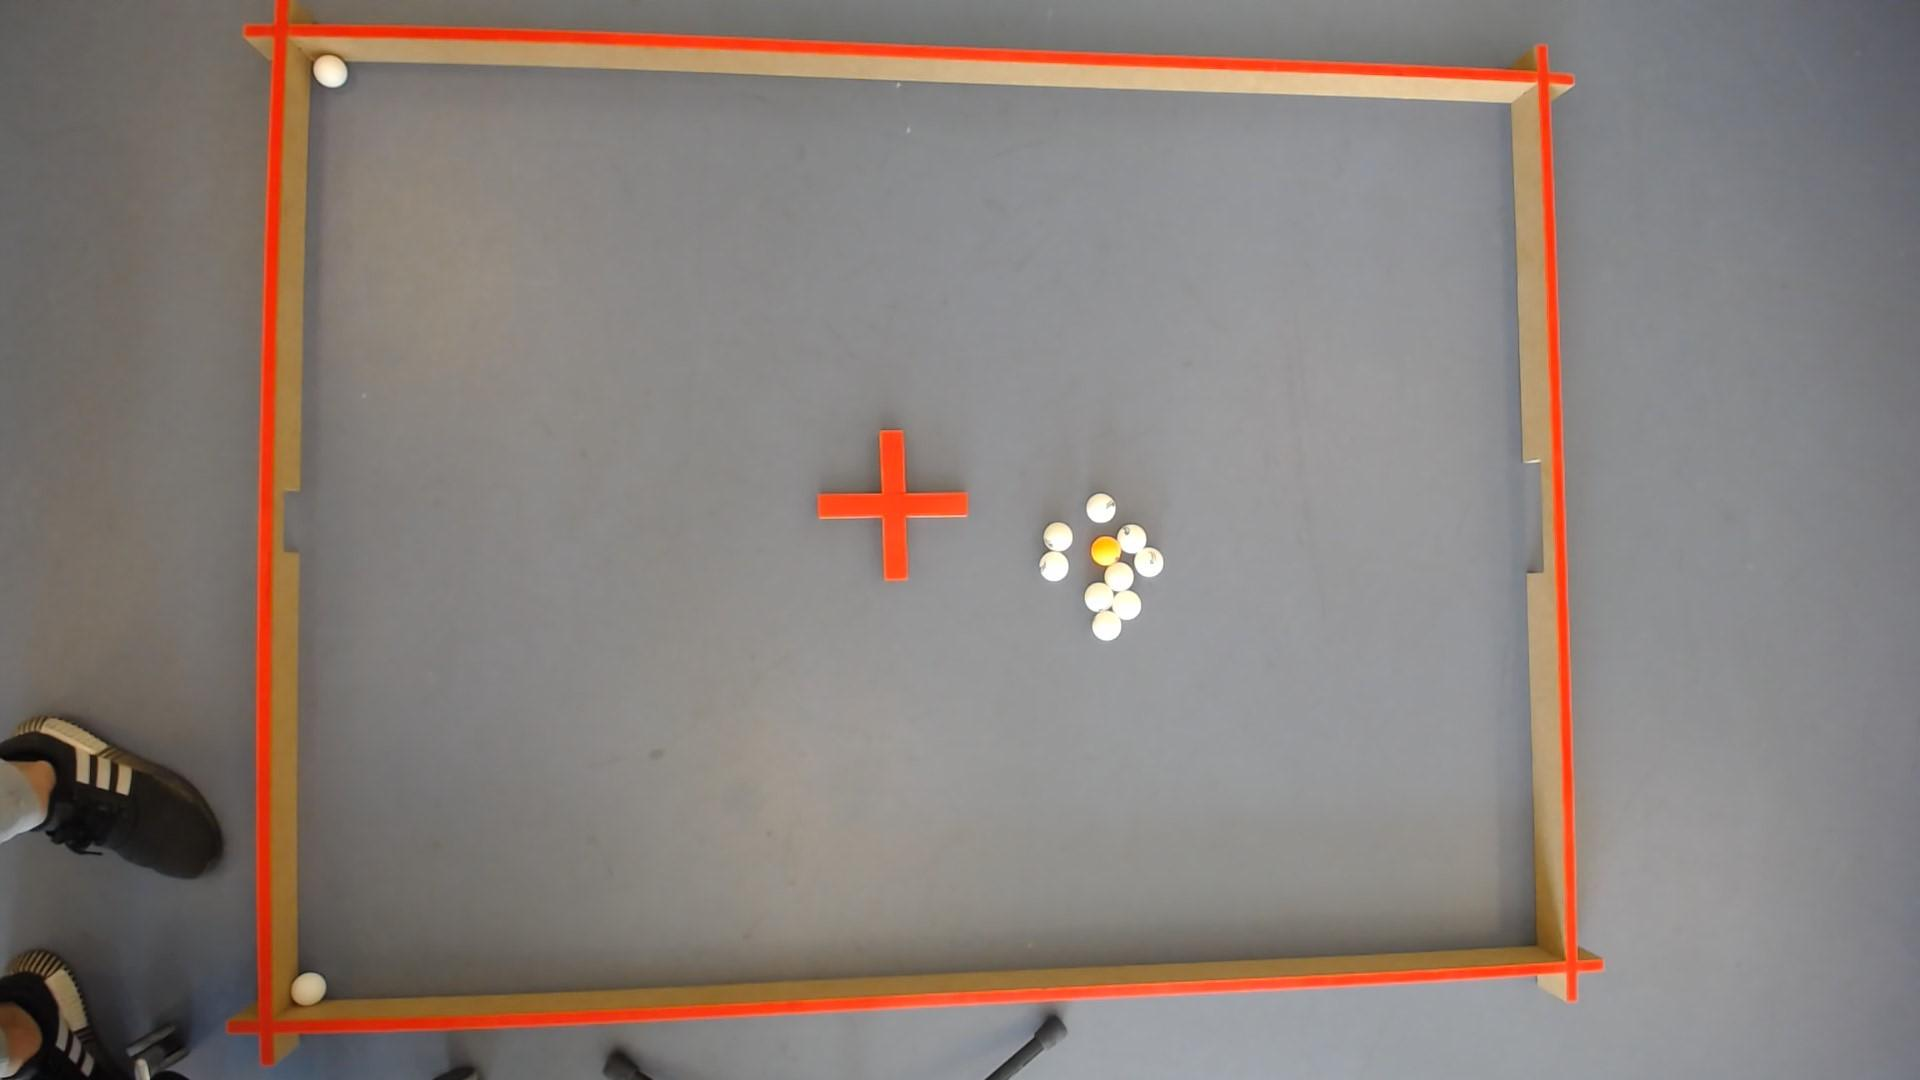orange: (1091, 534, 1124, 566)
white: (287, 972, 324, 1006), (310, 51, 345, 84), (1092, 609, 1124, 641), (1087, 491, 1118, 522), (1114, 588, 1143, 620), (1085, 582, 1114, 612), (1106, 560, 1135, 591), (1135, 546, 1164, 576), (1118, 524, 1149, 553), (1040, 550, 1069, 580), (1044, 521, 1073, 550)
